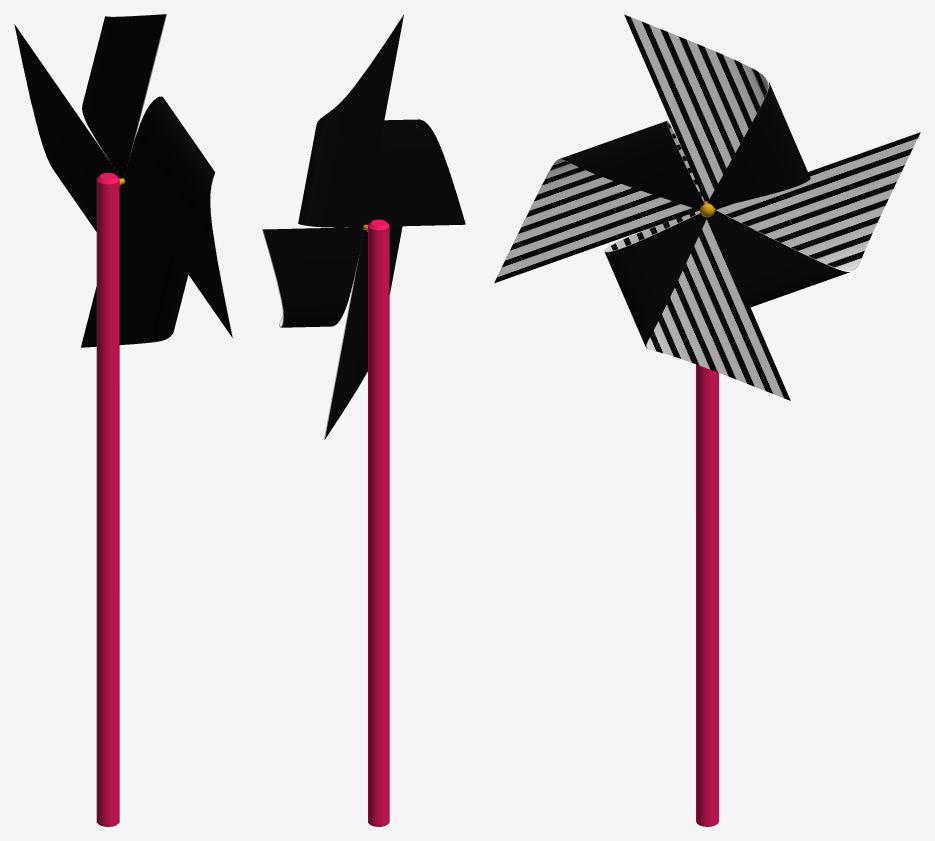
File: Pinwheel.fbx
The picture shows the model from 3 angles, left to right: view 1: azimuth 30°, elevation 25°; view 2: azimuth 150°, elevation 25°; view 3: azimuth 270°, elevation 25°; orthographic projection. The views are drawn at different scales.
Visible parts, largest first — view 1: Pinwheel_Blades, Pinwheel_Handle; view 2: Pinwheel_Blades, Pinwheel_Handle; view 3: Pinwheel_Blades, Pinwheel_Handle.
Boxes of the visible parts, <box> form: Pinwheel_Blades: <box>14,14,233,347</box>; Pinwheel_Handle: <box>96,172,121,826</box>; Pinwheel_Blades: <box>262,14,465,439</box>; Pinwheel_Handle: <box>366,219,389,826</box>; Pinwheel_Blades: <box>494,14,920,400</box>; Pinwheel_Handle: <box>696,364,718,826</box>.
Bounding box in the file's own units: 23.73 × 393 × 186.
Materials: 1 (1 with a texture image).
